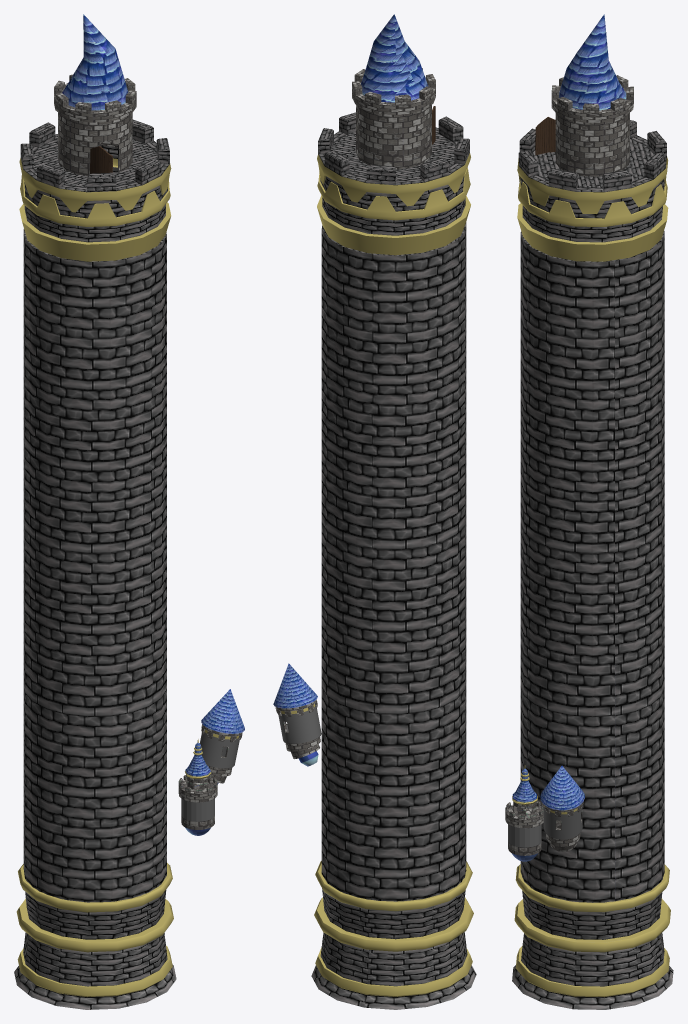
The model's file is SM_Climbing_tower.fbx.
3 views of the same model, side by side, from view 1: azimuth 30°, elevation 25°; view 2: azimuth 150°, elevation 25°; view 3: azimuth 270°, elevation 25° (orthographic).
Visible parts, largest first — view 1: SM_Large_tower_middle, SM_Large_tower; view 2: SM_Large_tower_middle, SM_Large_tower, polySurface2; view 3: SM_Large_tower_middle, SM_Large_tower, polySurface2.
Part boxes in pixels (x1,y1,x2,y2): SM_Large_tower_middle: (23, 229, 166, 902); SM_Large_tower: (14, 14, 244, 1009); SM_Large_tower_middle: (321, 222, 466, 901); SM_Large_tower: (273, 14, 476, 1009); polySurface2: (315, 863, 469, 911); SM_Large_tower_middle: (520, 231, 664, 902); SM_Large_tower: (505, 14, 673, 1009); polySurface2: (518, 864, 669, 907).
Bounding box in the file's own units: 5456 × 24786 × 3938.
